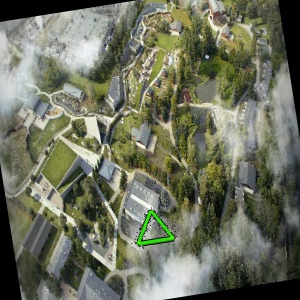triangle: (135, 208, 177, 246)
